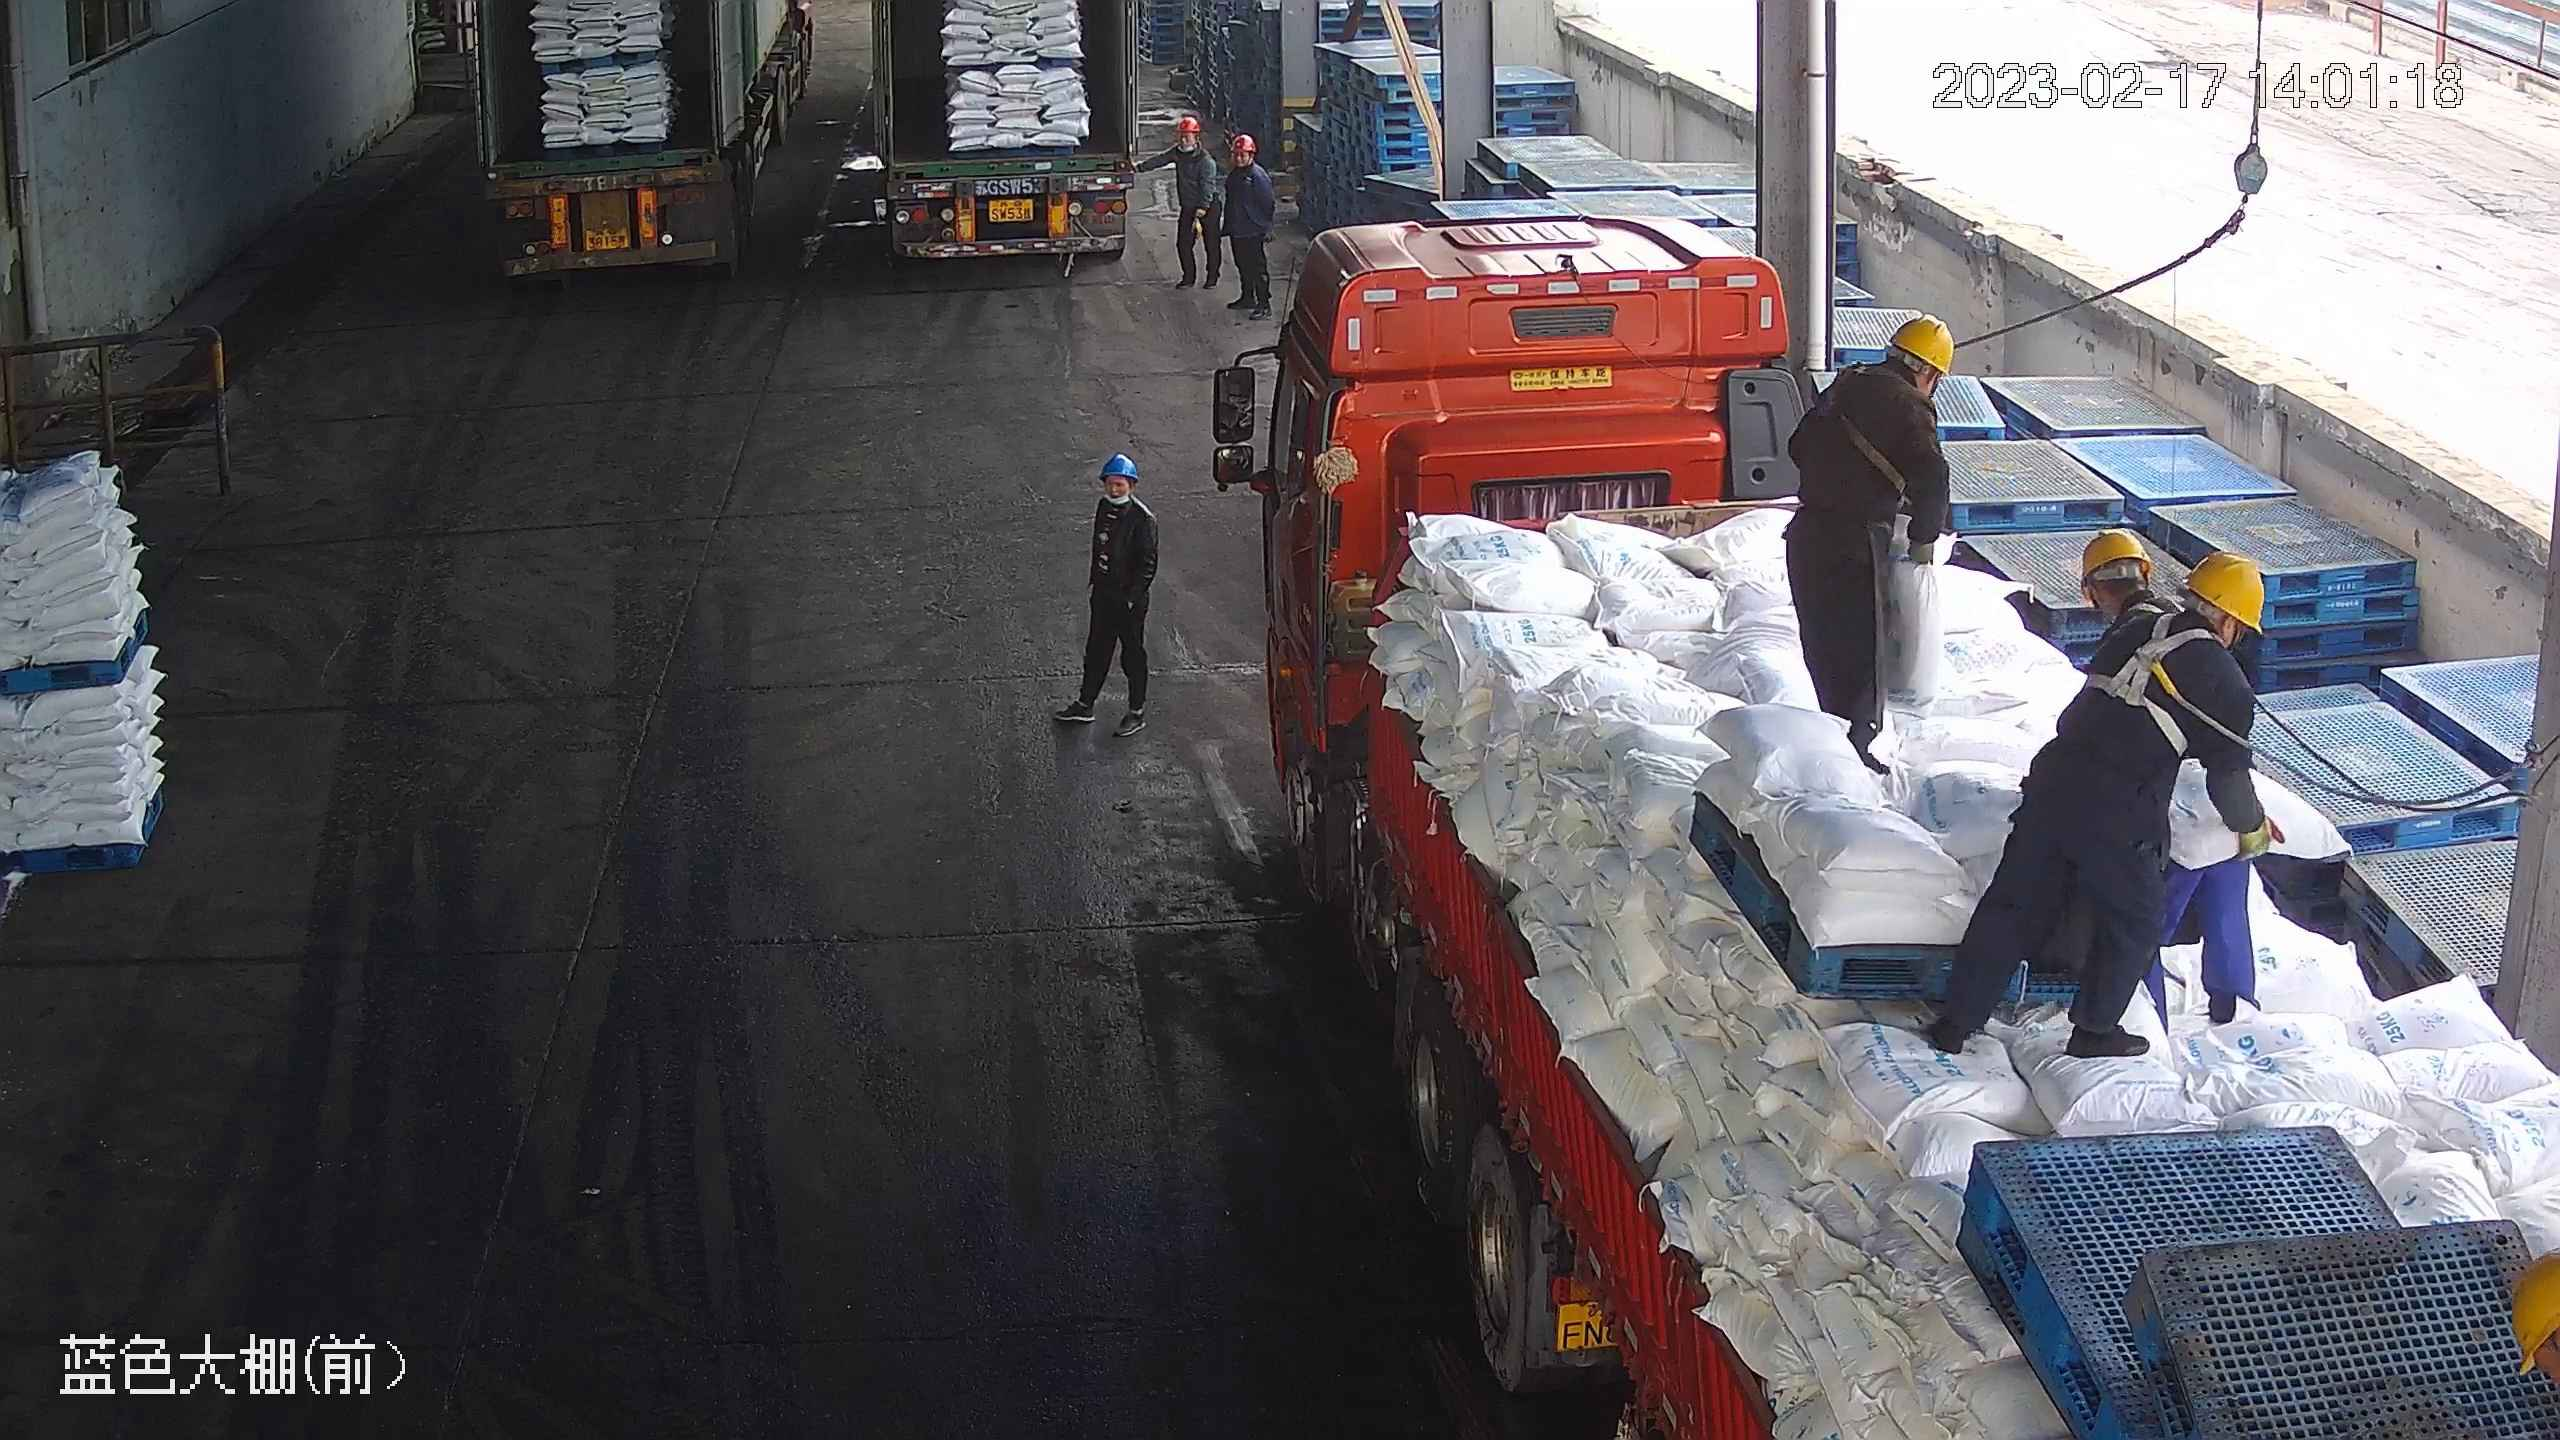belt: (2089, 596, 2227, 749), (1814, 361, 1911, 466)
head: (2107, 547, 2267, 713), (2074, 531, 2215, 680), (1824, 313, 1954, 436), (1089, 450, 1158, 548), (1221, 136, 1271, 196), (1166, 114, 1212, 176)
helmet: (2182, 546, 2266, 634), (2072, 527, 2156, 602), (2509, 1254, 2560, 1369), (1889, 315, 1956, 376), (1095, 449, 1136, 480), (1175, 112, 1202, 134), (1226, 135, 1254, 157)
people: (1924, 533, 2275, 1059), (1782, 313, 1963, 764), (1052, 447, 1160, 732), (1219, 137, 1274, 318), (1160, 112, 1217, 292)
truck: (1226, 198, 2558, 1438), (473, 1, 821, 281), (855, 1, 1148, 290)
